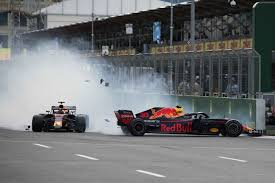FormulaOneCar: (112, 100, 266, 142), (28, 97, 93, 136)
